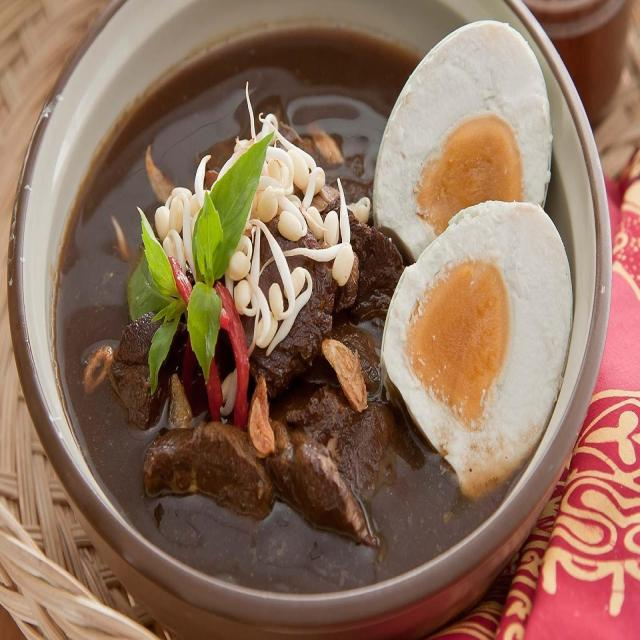Rawon: (9, 10, 591, 560)
